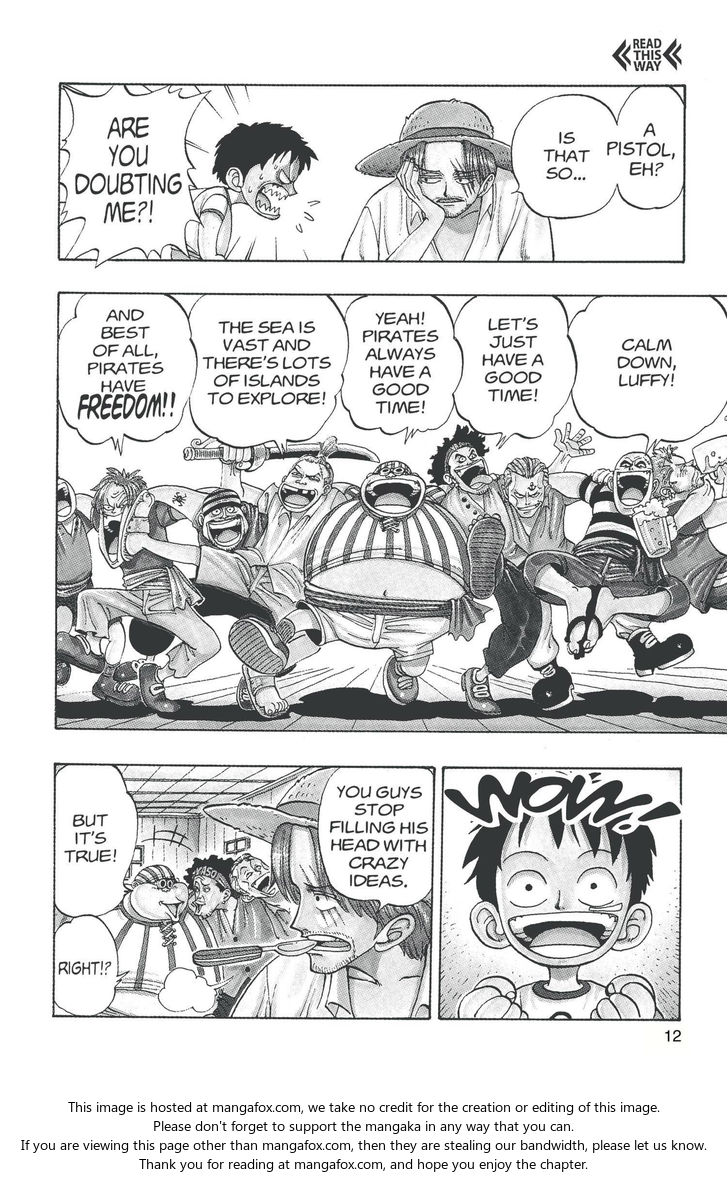bubble: (59, 84, 210, 268), (568, 295, 728, 455), (189, 294, 348, 455), (58, 292, 197, 454), (454, 294, 577, 447), (340, 295, 463, 444), (318, 767, 435, 914), (511, 94, 618, 220), (54, 764, 138, 918), (604, 85, 685, 209), (53, 914, 130, 1016)
